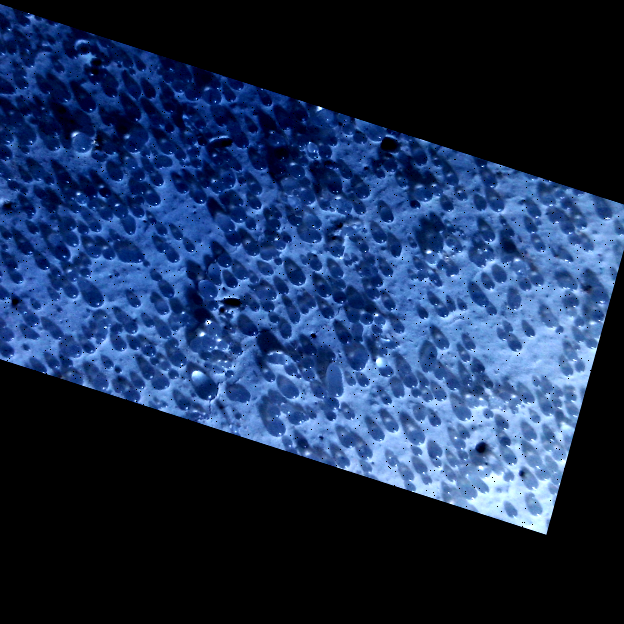GrassBeadSeg: (22, 144, 580, 487), (2, 45, 457, 448), (20, 148, 543, 465), (46, 18, 426, 421), (82, 134, 566, 440), (70, 133, 543, 436), (162, 142, 543, 517), (24, 185, 517, 465), (53, 22, 487, 336), (69, 134, 564, 397), (24, 174, 577, 403), (177, 89, 556, 416), (124, 136, 462, 491), (132, 171, 504, 476), (0, 235, 538, 442), (11, 224, 538, 432), (150, 218, 541, 498), (180, 202, 518, 519), (0, 232, 443, 468), (202, 219, 588, 486), (142, 95, 424, 456), (102, 116, 448, 401), (142, 147, 565, 380), (28, 226, 496, 433), (128, 96, 506, 351), (79, 98, 355, 441), (6, 260, 462, 467), (139, 163, 415, 487), (103, 248, 518, 463), (83, 259, 469, 468), (89, 213, 576, 376), (80, 99, 334, 400), (129, 140, 421, 398), (298, 185, 559, 473), (288, 165, 557, 443), (88, 225, 427, 444), (299, 191, 539, 491), (122, 158, 428, 388), (97, 187, 450, 377), (111, 298, 443, 492), (362, 196, 585, 474), (22, 110, 298, 333), (257, 287, 550, 481), (199, 212, 566, 360), (285, 212, 613, 373), (45, 138, 612, 231), (78, 200, 420, 351), (131, 115, 372, 324), (161, 303, 432, 485), (62, 177, 497, 289), (102, 227, 455, 365), (52, 245, 337, 415), (112, 208, 394, 378), (59, 91, 360, 250), (16, 243, 365, 379), (189, 159, 383, 403), (157, 292, 510, 425), (148, 193, 450, 347), (79, 269, 460, 390), (99, 184, 545, 287), (220, 242, 547, 382), (268, 133, 432, 401), (294, 110, 414, 476), (124, 140, 309, 373), (150, 117, 347, 324), (3, 199, 262, 356), (367, 188, 586, 373), (45, 187, 443, 288), (150, 118, 311, 367), (250, 158, 419, 389), (9, 175, 461, 260), (28, 224, 348, 344), (86, 246, 286, 437), (0, 149, 212, 328), (32, 275, 343, 396), (57, 199, 505, 280), (344, 176, 492, 420), (353, 133, 454, 483), (164, 285, 350, 468), (229, 235, 393, 432), (111, 147, 303, 308), (315, 231, 496, 399), (372, 231, 512, 447), (258, 264, 443, 427), (34, 148, 290, 264), (66, 221, 577, 279), (433, 187, 585, 379), (257, 264, 458, 408), (301, 348, 514, 483), (153, 221, 468, 312), (164, 251, 450, 350), (450, 214, 551, 483), (101, 169, 307, 298), (51, 329, 393, 406), (105, 124, 210, 367), (71, 203, 368, 282), (101, 118, 250, 274), (299, 236, 582, 315), (160, 287, 371, 388), (128, 298, 519, 352), (445, 239, 595, 379), (304, 351, 470, 476), (269, 118, 340, 410), (364, 256, 587, 343), (296, 156, 458, 271), (331, 222, 469, 357), (285, 249, 431, 374), (321, 307, 430, 474), (64, 202, 453, 247), (287, 272, 387, 442), (88, 245, 227, 367), (253, 325, 374, 460), (454, 264, 525, 493), (376, 188, 433, 469), (313, 353, 579, 411), (447, 227, 528, 415), (4, 286, 253, 346), (218, 199, 479, 253), (204, 297, 580, 334), (132, 254, 234, 389), (445, 374, 559, 494), (34, 250, 144, 372), (233, 345, 363, 448), (302, 371, 415, 482), (340, 299, 424, 448), (182, 117, 429, 167), (155, 220, 277, 316), (248, 302, 477, 352), (126, 81, 241, 172), (158, 369, 292, 446), (150, 80, 244, 186), (268, 257, 366, 356), (142, 331, 510, 357), (145, 195, 238, 289), (22, 175, 370, 200), (0, 268, 93, 358), (483, 318, 580, 404), (282, 157, 489, 197), (536, 221, 623, 316), (410, 274, 535, 338), (201, 276, 436, 308), (158, 165, 244, 252), (339, 421, 510, 464), (23, 74, 167, 125), (159, 142, 261, 210), (9, 273, 544, 285), (226, 210, 396, 247), (84, 223, 136, 340), (285, 298, 388, 357), (176, 365, 299, 411), (454, 340, 522, 422), (37, 264, 111, 339), (254, 165, 323, 244), (19, 300, 95, 368), (465, 396, 555, 453), (0, 181, 30, 350), (84, 286, 325, 307), (133, 182, 225, 235), (309, 152, 443, 187), (425, 159, 468, 263), (320, 111, 385, 178), (445, 266, 468, 455), (289, 112, 342, 193), (297, 207, 368, 267), (0, 88, 72, 145), (54, 284, 278, 302), (320, 124, 397, 176), (415, 228, 510, 270), (114, 205, 162, 283), (101, 37, 180, 84), (1, 129, 55, 194), (147, 306, 228, 349), (197, 311, 236, 399), (251, 301, 429, 320), (9, 40, 71, 93), (196, 81, 258, 133), (433, 228, 509, 267), (248, 126, 311, 173), (482, 282, 577, 311), (508, 251, 576, 291), (223, 176, 257, 256), (268, 235, 343, 270), (501, 199, 567, 237), (465, 381, 555, 407), (475, 270, 513, 329), (175, 120, 231, 160), (452, 364, 493, 417), (548, 310, 605, 348), (13, 89, 60, 135), (145, 72, 200, 111), (328, 279, 381, 319), (326, 248, 371, 291), (142, 146, 224, 169), (68, 49, 134, 76), (0, 16, 32, 70), (31, 259, 63, 312), (531, 416, 568, 461), (93, 338, 128, 385), (267, 210, 307, 250), (536, 185, 574, 226), (293, 356, 316, 421), (433, 225, 463, 269), (195, 178, 245, 204), (88, 309, 125, 344), (117, 377, 165, 403), (443, 469, 490, 495), (448, 459, 477, 500), (215, 307, 234, 368), (152, 174, 194, 199), (484, 398, 562, 411), (262, 249, 322, 265), (145, 321, 179, 347), (228, 370, 252, 403), (200, 381, 244, 398), (111, 320, 138, 346), (58, 193, 90, 213), (282, 407, 317, 425), (445, 357, 485, 372), (543, 313, 584, 326), (162, 341, 172, 389), (320, 199, 352, 214), (307, 201, 324, 229), (247, 244, 273, 261), (95, 377, 124, 392), (120, 256, 148, 267), (213, 176, 234, 188), (159, 327, 173, 339), (467, 384, 470, 386)
